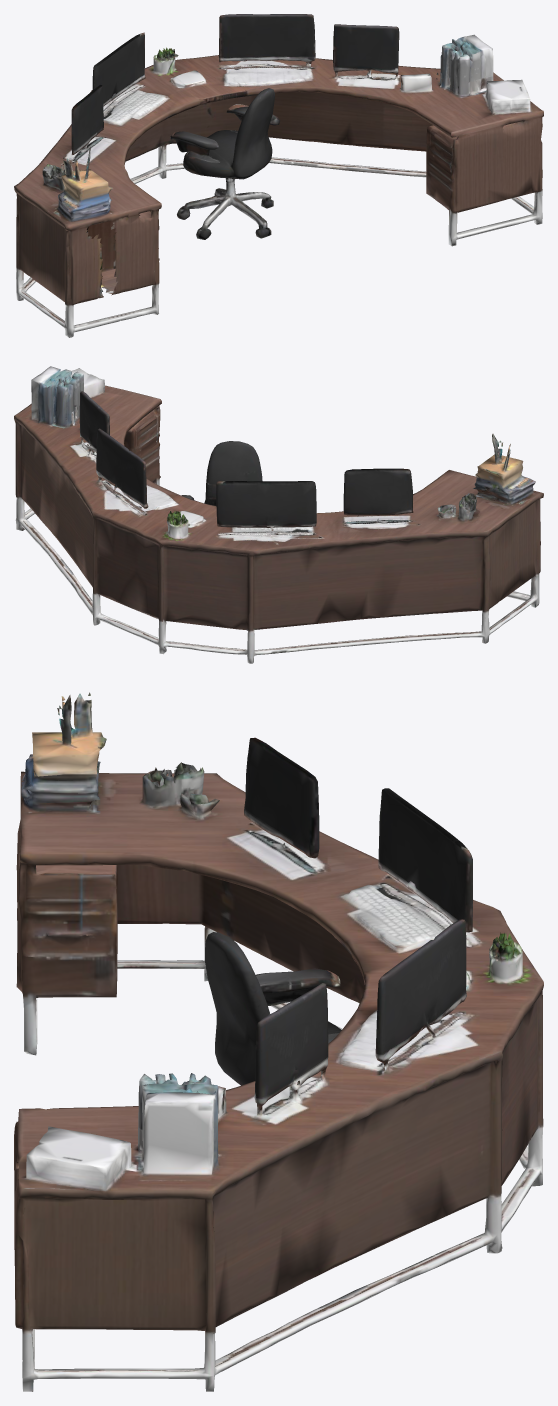
3 renders of one model, top to bottom at view 1: azimuth 30°, elevation 25°; view 2: azimuth 150°, elevation 25°; view 3: azimuth 270°, elevation 25°, orthographic. The views are drawn at different scales.
Visible parts, largest first — view 1: Mesh1.0; view 2: Mesh1.0; view 3: Mesh1.0.
Part boxes in pixels (x1=…): Mesh1.0: x1=14, y1=14, x2=543, y2=337; Mesh1.0: x1=14, y1=366, x2=543, y2=663; Mesh1.0: x1=14, y1=692, x2=543, y2=1391.
Bounding box in the file's own units: 199 × 69.68 × 106.
Materials: 1 (1 with a texture image).
